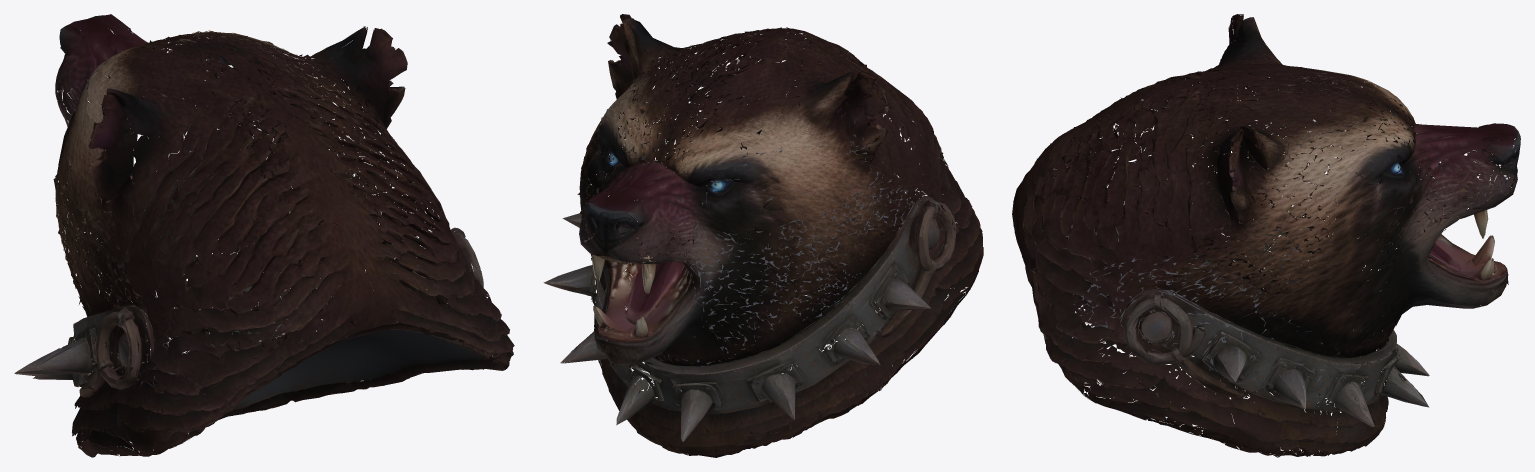
Rendered from wolverine_head.glb.
3 views of the same model, side by side, from view 1: azimuth 30°, elevation 25°; view 2: azimuth 150°, elevation 25°; view 3: azimuth 270°, elevation 25° (orthographic). The views are drawn at different scales.
Visible parts, largest first — view 1: WolverineHead; view 2: WolverineHead; view 3: WolverineHead.
Boxes of the visible parts, left/top/right/bottom form: WolverineHead: left=14, top=14, right=514, bottom=457; WolverineHead: left=543, top=14, right=983, bottom=457; WolverineHead: left=1012, top=14, right=1520, bottom=457.
Bounding box in the file's own units: 0.8885 × 0.8473 × 1.06.
Materials: 1 (1 with a texture image).
